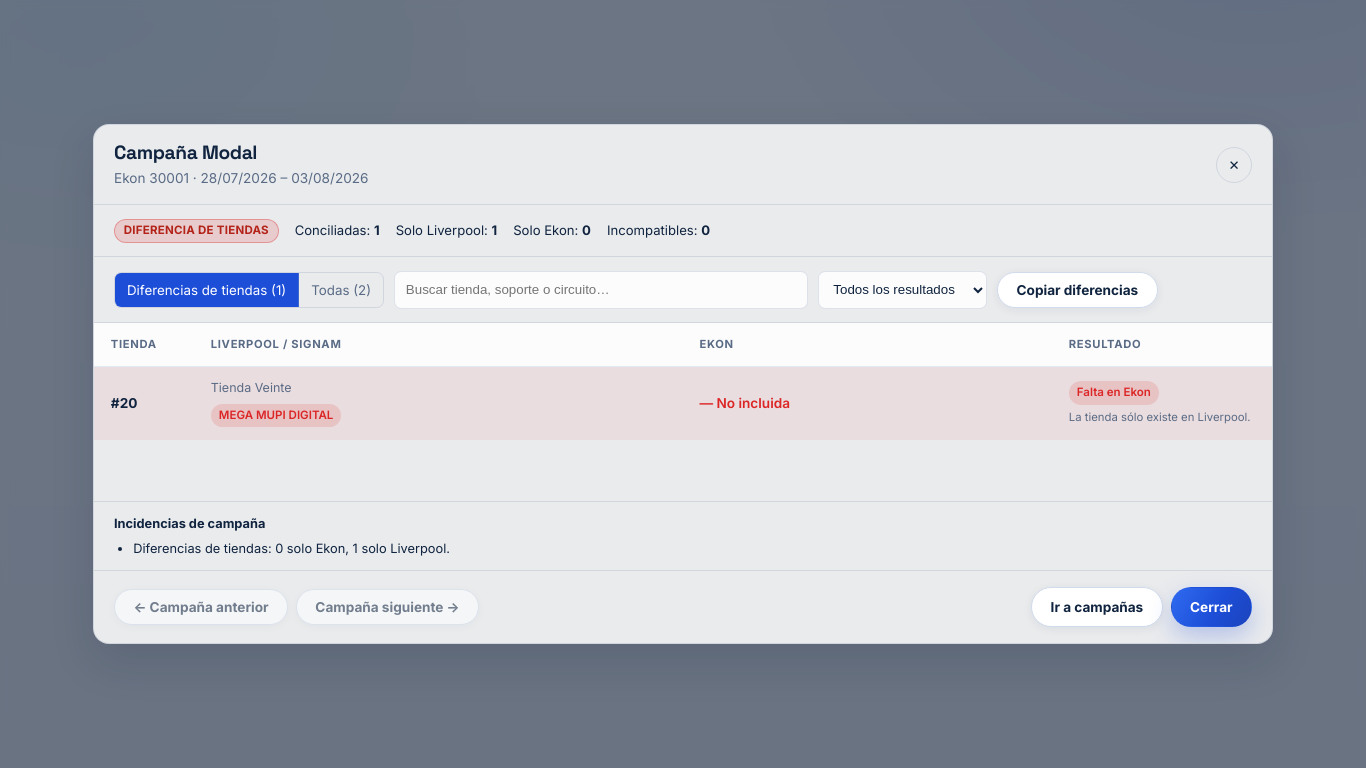
Test case: ReconciliationDetailModal › abre en diferencias y permite consultar todas las tiendas
expect the text "#20" is shown: met, box [111,395,137,411]
expect the text "#10" is not shown: met
Click the button "Todas (2)" at (341, 290), box [299,273,383,307]
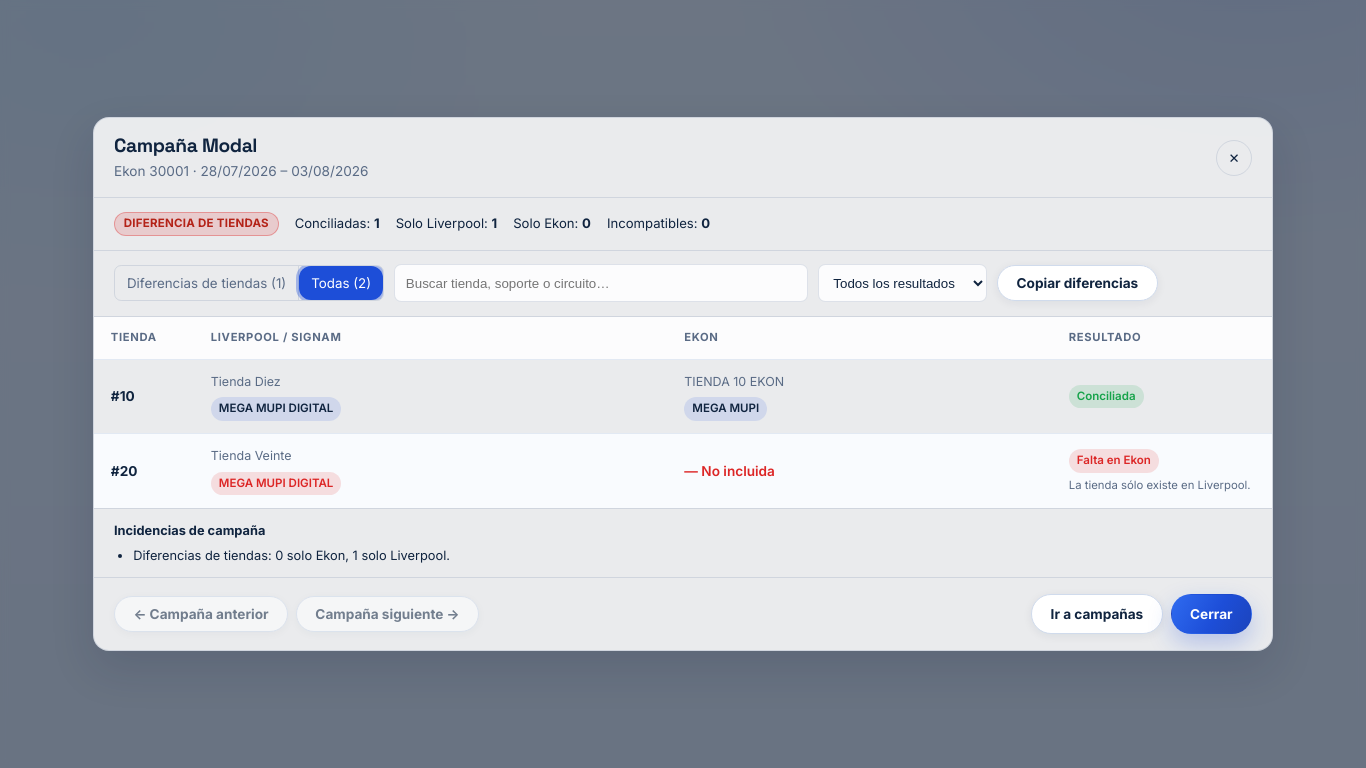
expect the text "#20" is shown: met, box [111,463,137,479]
expect the text "#10" is shown: met, box [111,388,135,404]
